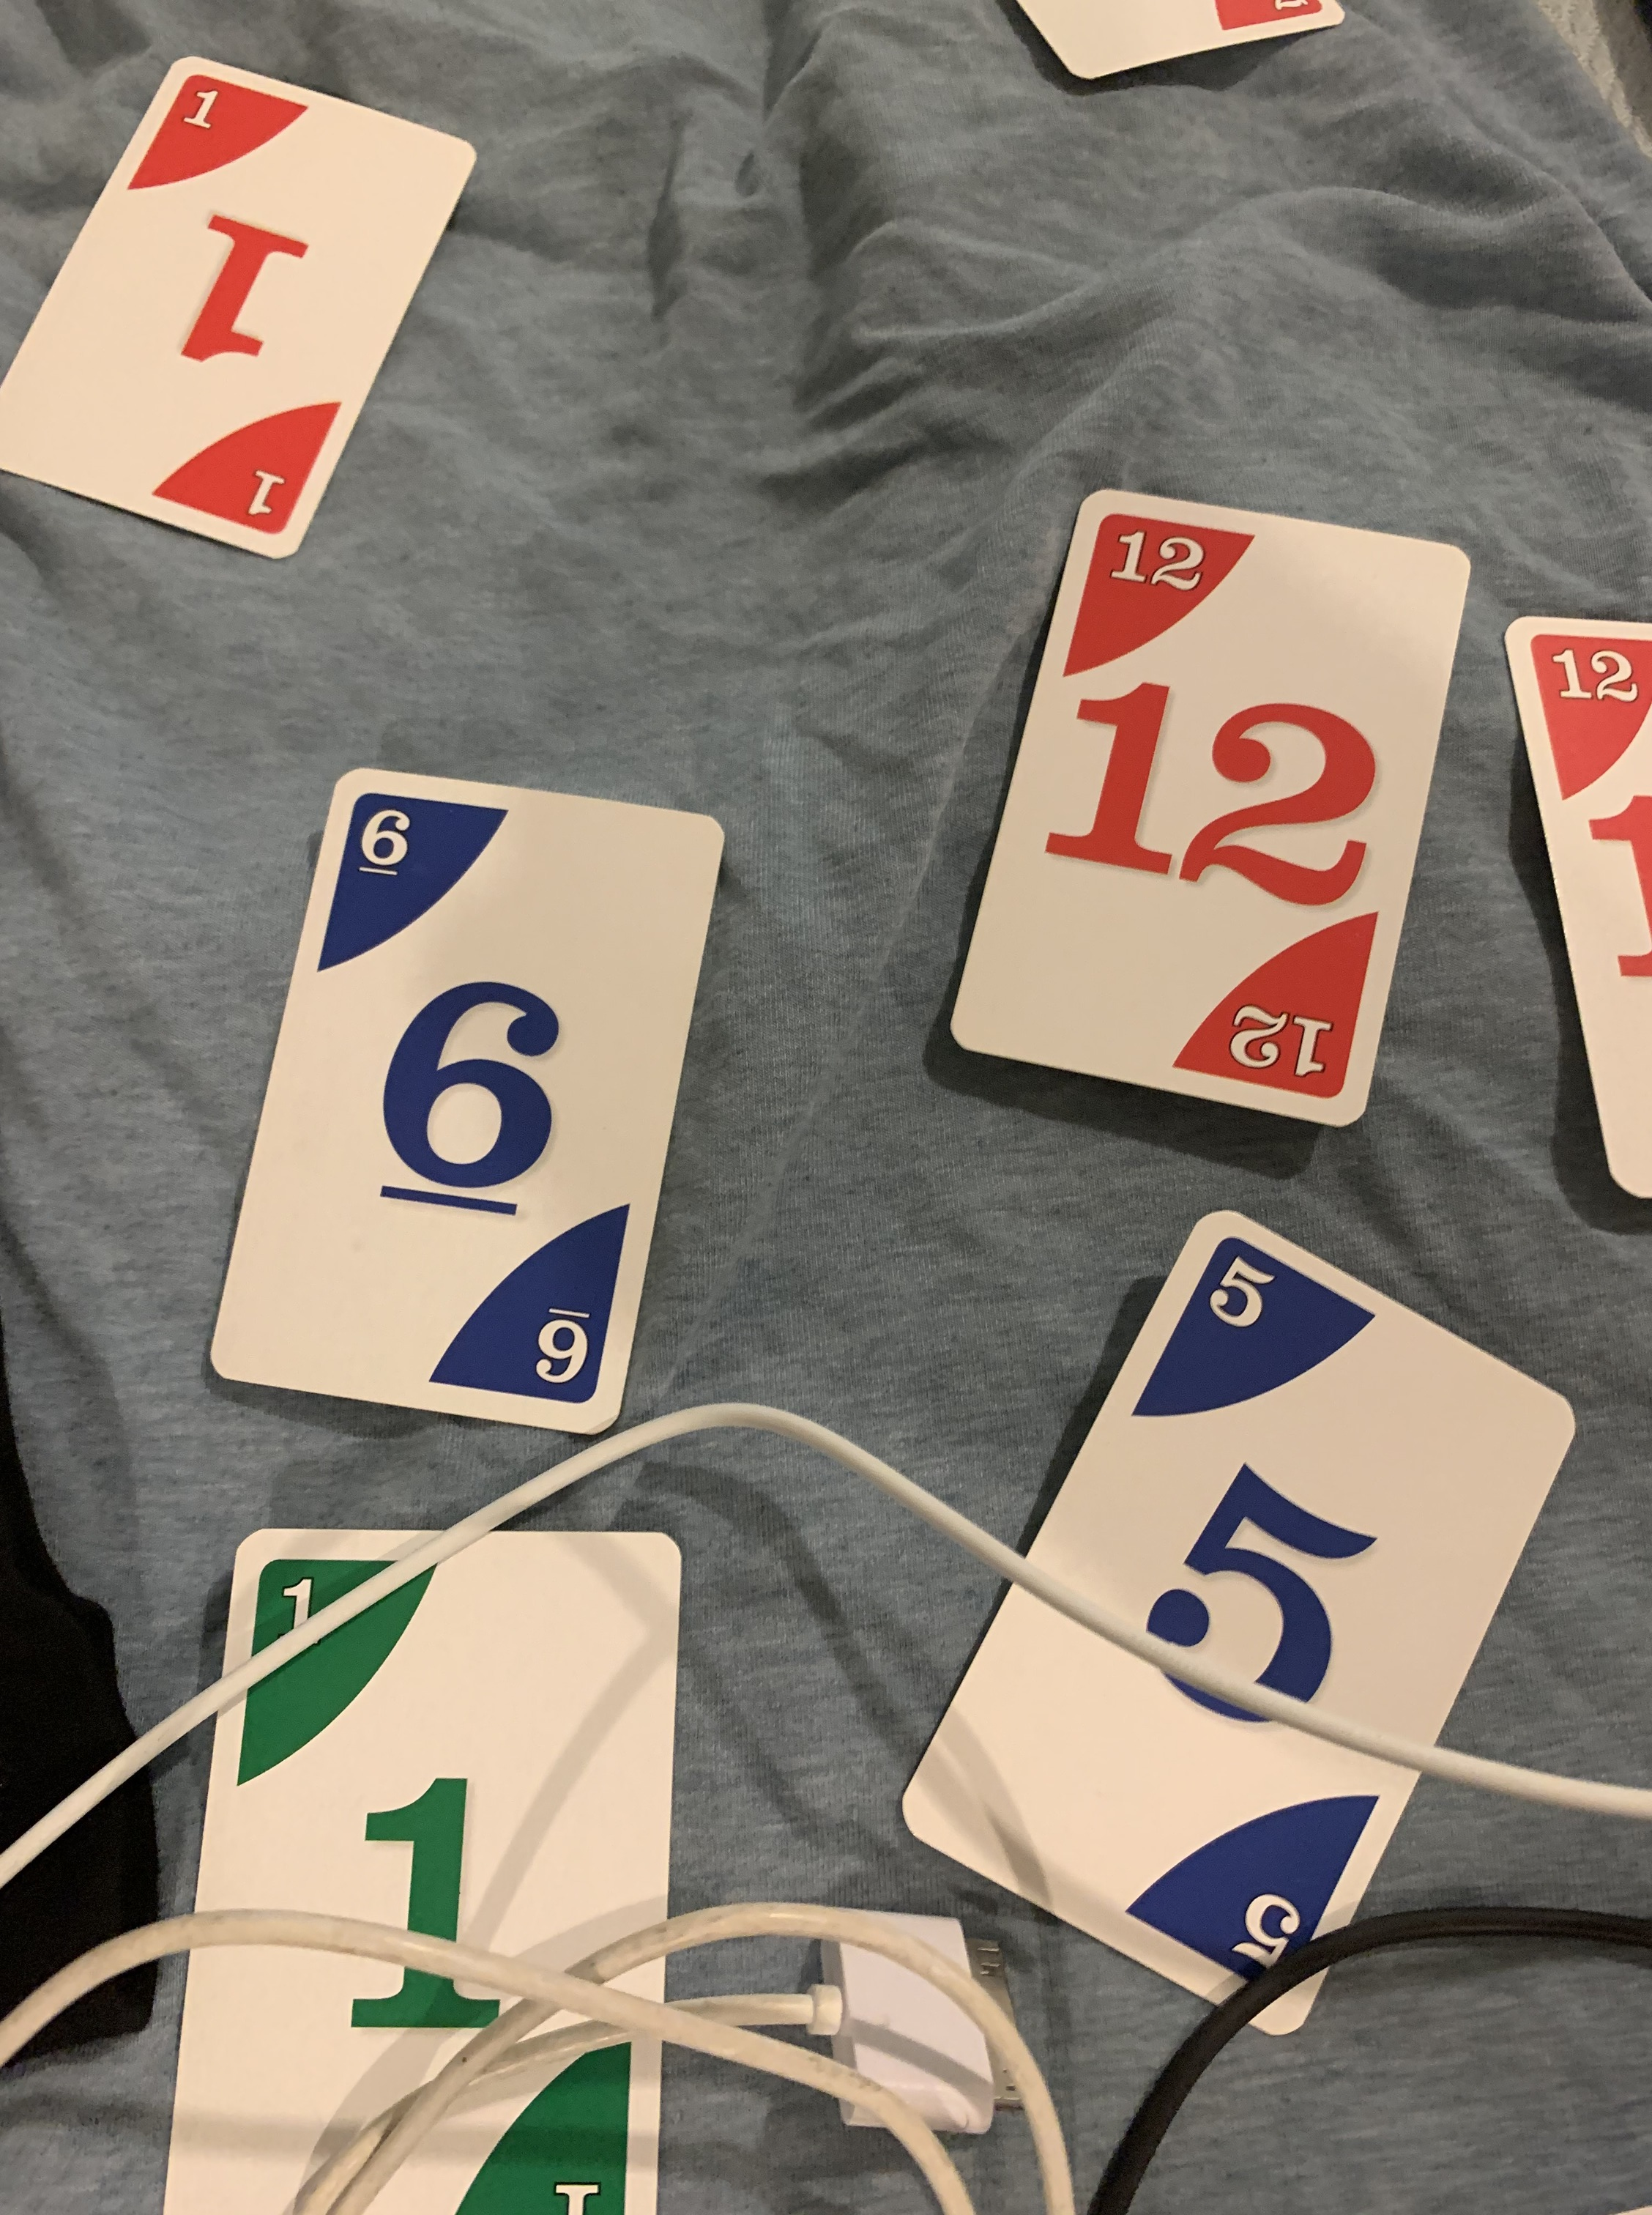five: (897, 1187, 1598, 2055)
one: (141, 1521, 713, 2215), (0, 43, 481, 573)
six: (201, 755, 736, 1446)
twelve: (928, 474, 1487, 1146)
